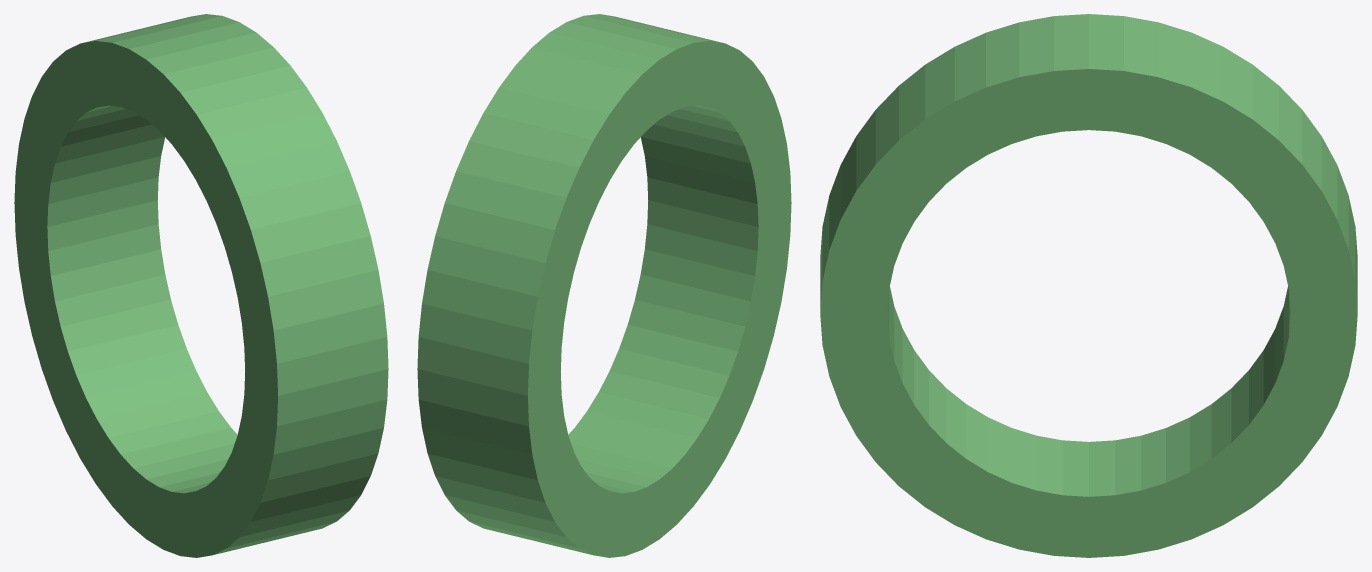
File: Wheel1.glb
3 renders of one model, left to right at view 1: azimuth 30°, elevation 25°; view 2: azimuth 150°, elevation 25°; view 3: azimuth 270°, elevation 25°, orthographic.
Visible parts, largest first — view 1: Mesh_Mesh_head_geo.001_lambert2SG.001; view 2: Mesh_Mesh_head_geo.001_lambert2SG.001; view 3: Mesh_Mesh_head_geo.001_lambert2SG.001.
Boxes of the visible parts, <box> form: Mesh_Mesh_head_geo.001_lambert2SG.001: <box>14,14,388,557</box>; Mesh_Mesh_head_geo.001_lambert2SG.001: <box>417,14,791,557</box>; Mesh_Mesh_head_geo.001_lambert2SG.001: <box>820,14,1357,557</box>.
Bounding box in the file's own units: 0.00484 × 0.0201 × 0.02.
